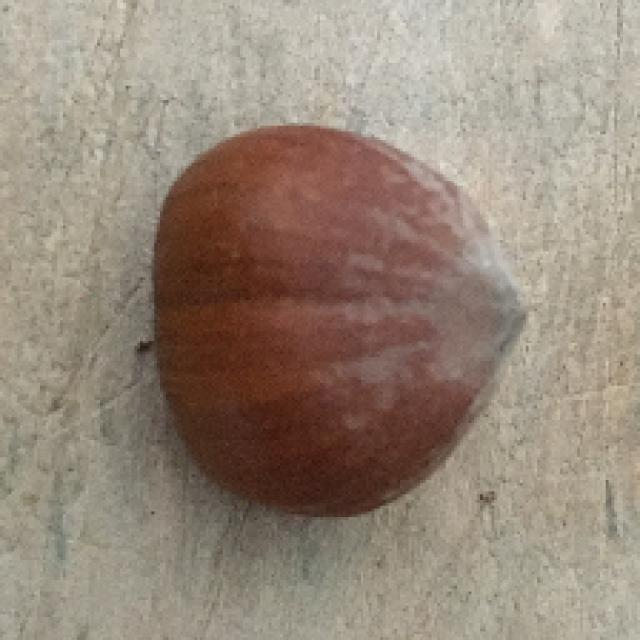qualityHazelnut: (159, 122, 525, 516)
